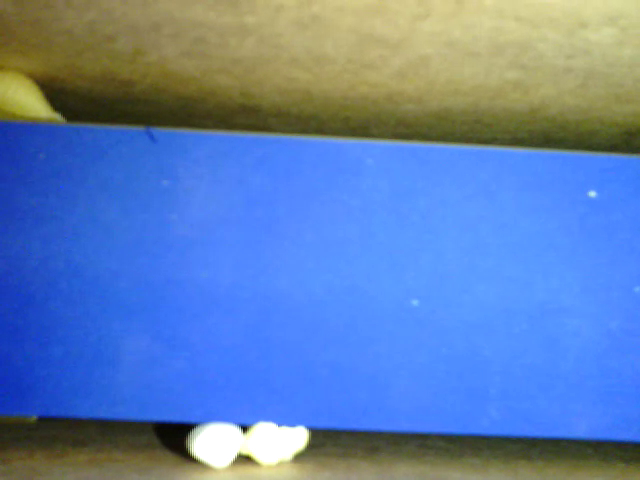shell: (1, 64, 74, 124)
